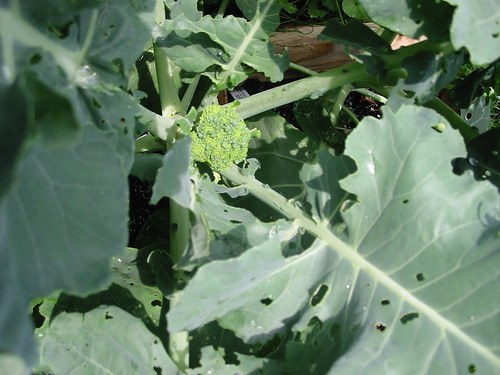broccoli: (185, 100, 253, 175)
